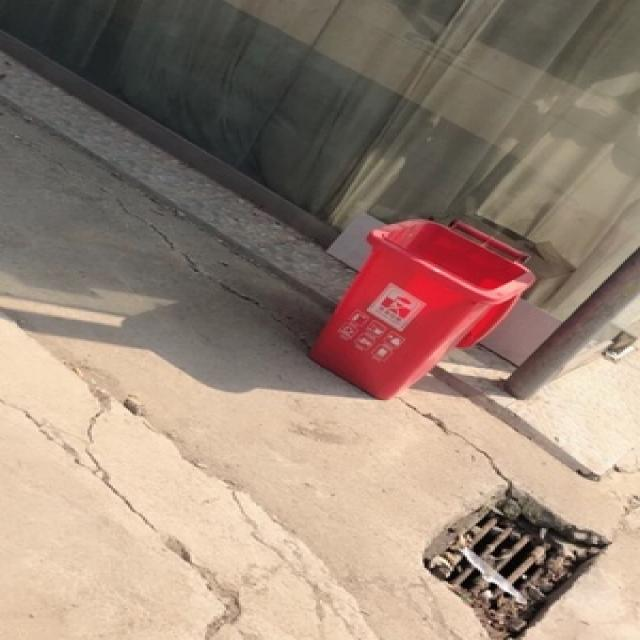ash bin: (307, 216, 536, 398)
